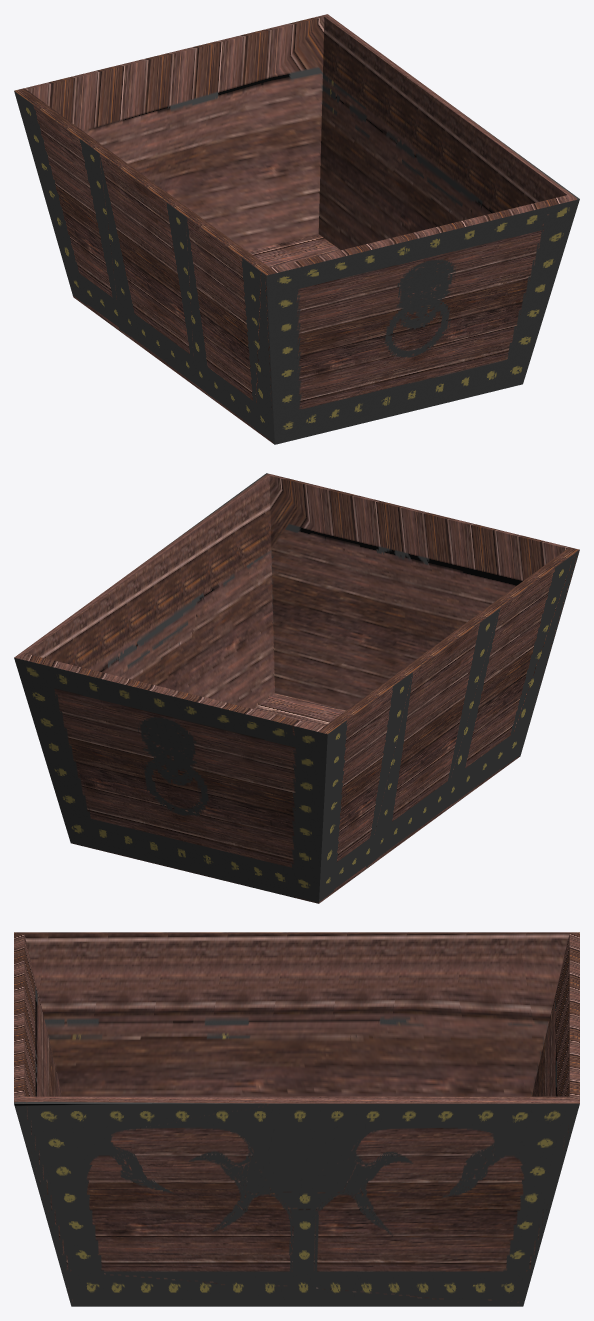
Rendered from pirate-chest-bottom-new.FBX.
3 views of the same model, one above another, from view 1: azimuth 30°, elevation 25°; view 2: azimuth 150°, elevation 25°; view 3: azimuth 270°, elevation 25° (orthographic). The views are drawn at different scales.
Parts seen in each view (by area): view 1: chest bottom low01; view 2: chest bottom low01; view 3: chest bottom low01.
Part boxes in pixels (bbox=[...]): chest bottom low01: bbox=[14, 14, 579, 444]; chest bottom low01: bbox=[14, 473, 579, 903]; chest bottom low01: bbox=[14, 932, 579, 1306].
Bounding box in the file's own units: 2.25 × 3.13 × 1.36.
